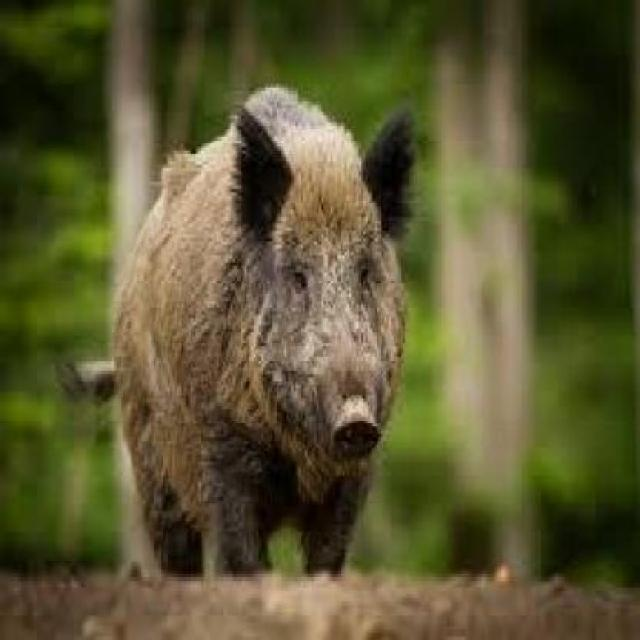Wild Boar: (55, 76, 420, 579)
